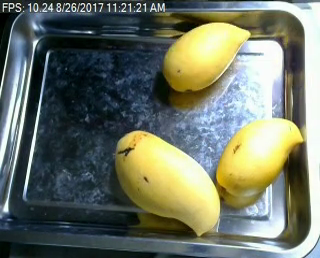Mango: (114, 129, 220, 236), (213, 117, 302, 197), (161, 22, 250, 91)
